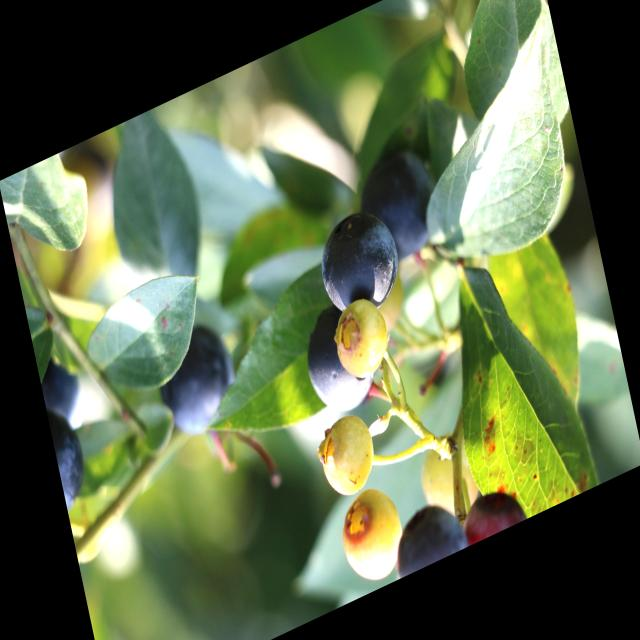blueberry: (149, 305, 244, 447), (314, 196, 411, 330), (356, 137, 448, 276), (298, 287, 382, 433), (385, 492, 468, 580)
blueberry-unripe: (311, 398, 382, 508), (336, 486, 406, 590), (328, 289, 396, 386)
